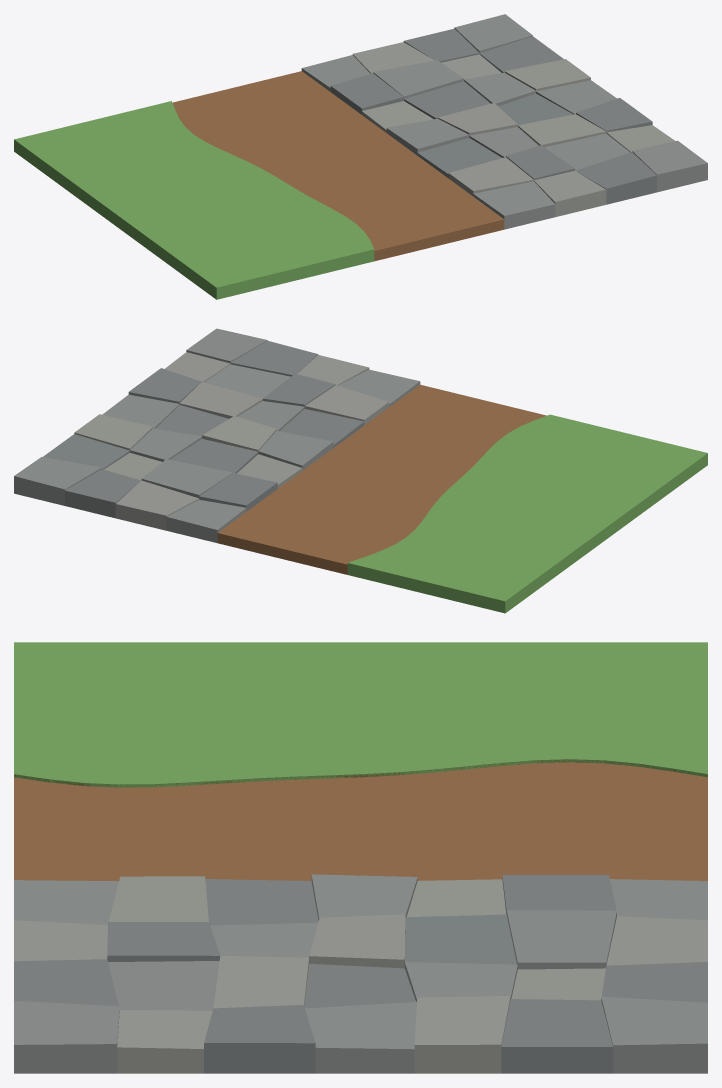
File: LoopFloor_GrassDirtRock.fbx
3 renders of one model, top to bottom at view 1: azimuth 30°, elevation 25°; view 2: azimuth 150°, elevation 25°; view 3: azimuth 270°, elevation 25°, orthographic. The views are drawn at different scales.
Visible parts, largest first — view 1: LoopFloor_Integrated; view 2: LoopFloor_Integrated; view 3: LoopFloor_Integrated.
Part boxes in pixels (x1=…): LoopFloor_Integrated: x1=14, y1=14, x2=707, y2=299; LoopFloor_Integrated: x1=14, y1=328, x2=707, y2=613; LoopFloor_Integrated: x1=14, y1=642, x2=707, y2=1073.
Bounding box in the file's own units: 1400 × 49.39 × 1000.
